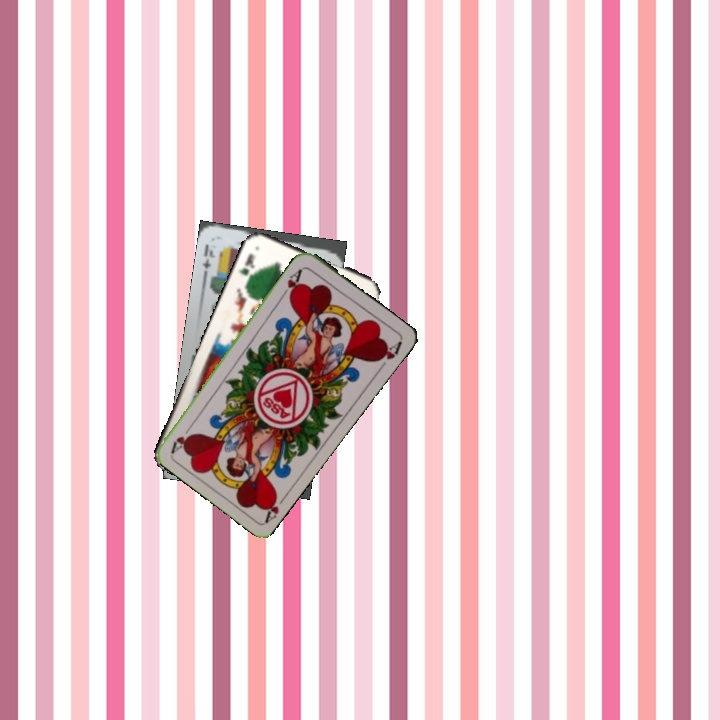EK: (199, 240, 217, 277)
GK: (234, 249, 258, 284)
HA: (260, 489, 290, 524), (278, 264, 306, 300)
